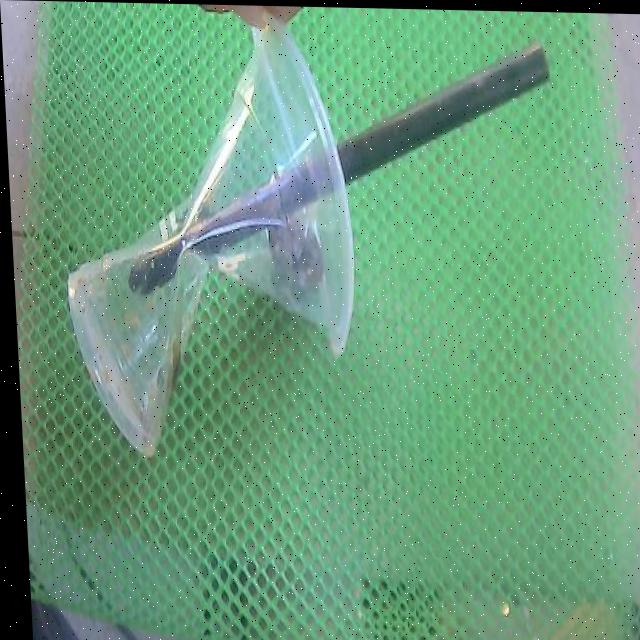cup: (65, 20, 352, 454)
